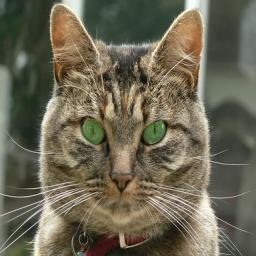catnose: (108, 166, 136, 193)
